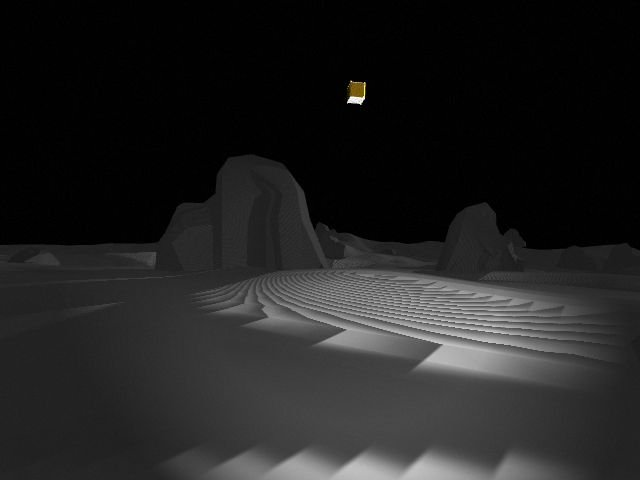cubesat: (342, 77, 370, 108)
